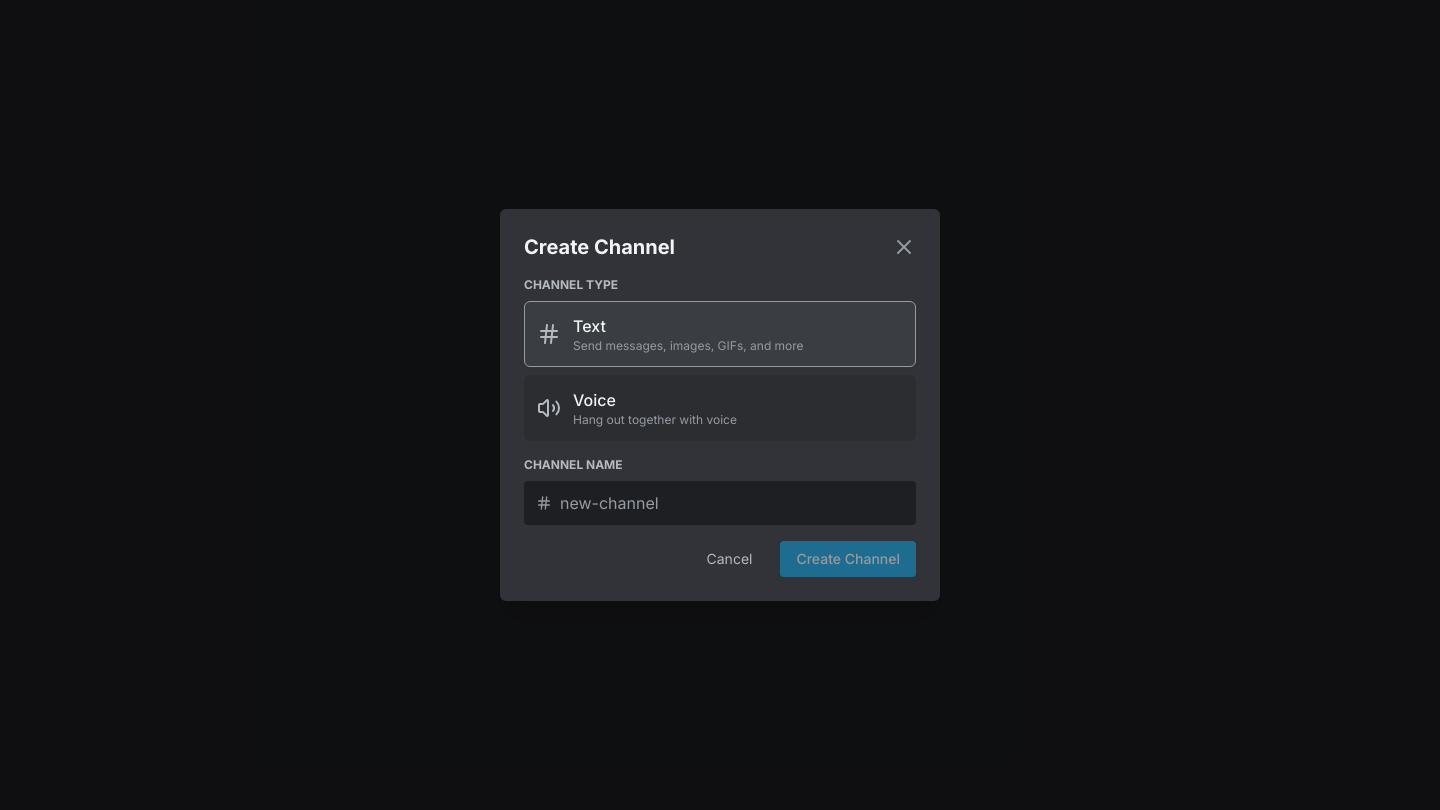
Scenario: CreateChannelModal › shows Creating... while loading
Step 1. Type "general" into the field with placeholder "new-channel" → (732, 503), box [560, 481, 904, 525]
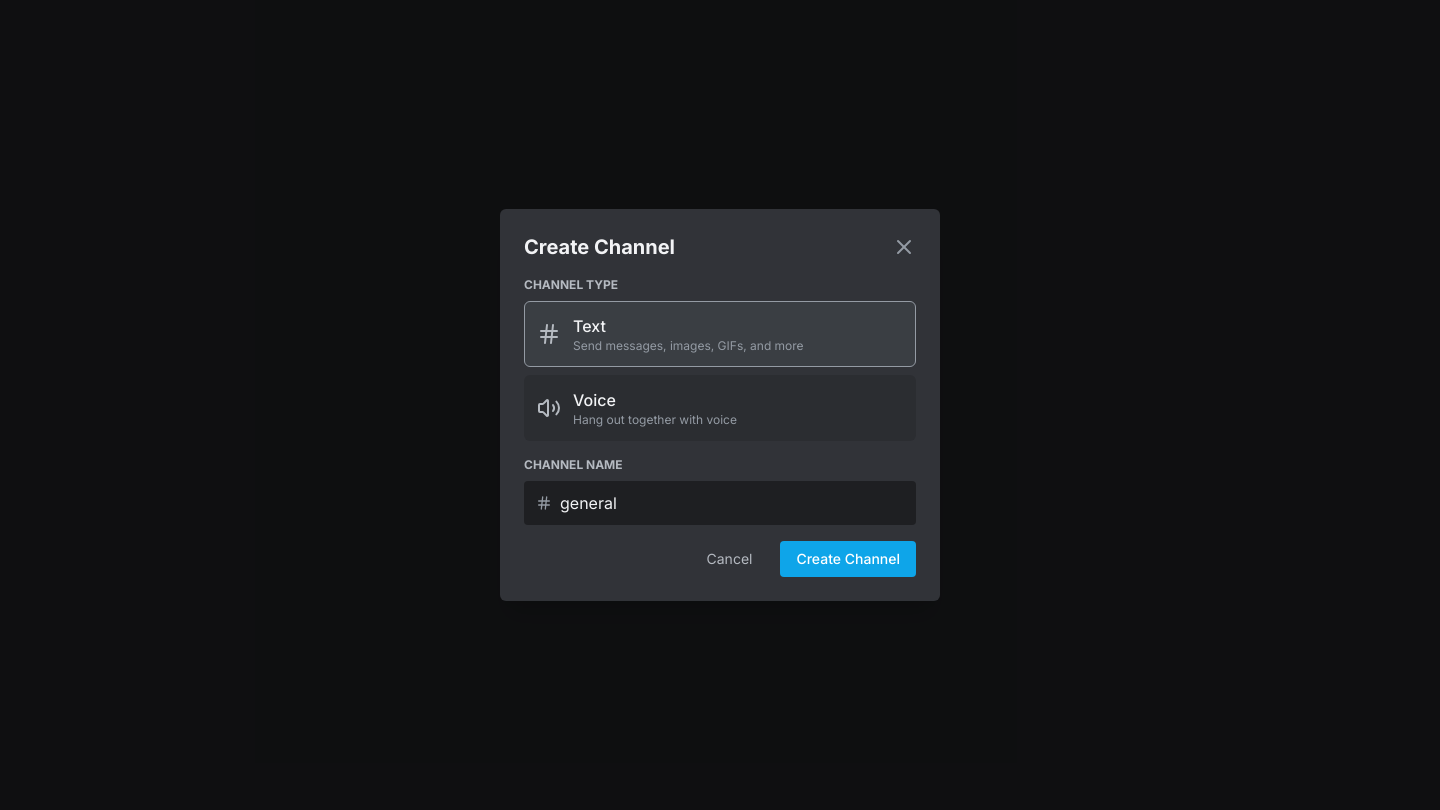
Step 2. Click the button "Create Channel" → (848, 559), box [780, 541, 916, 577]
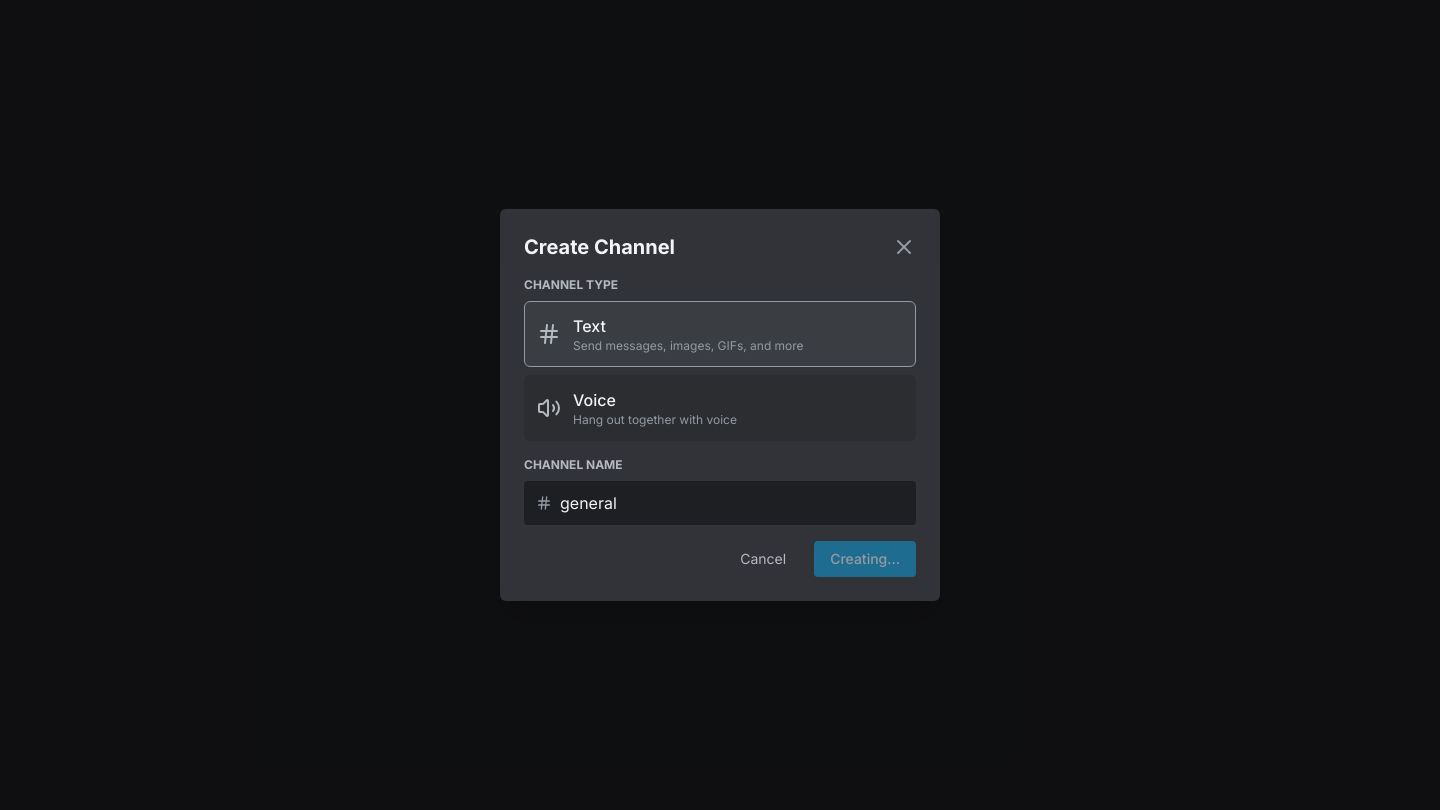
Now the button "Creating..." is shown, box [814, 541, 916, 577]
